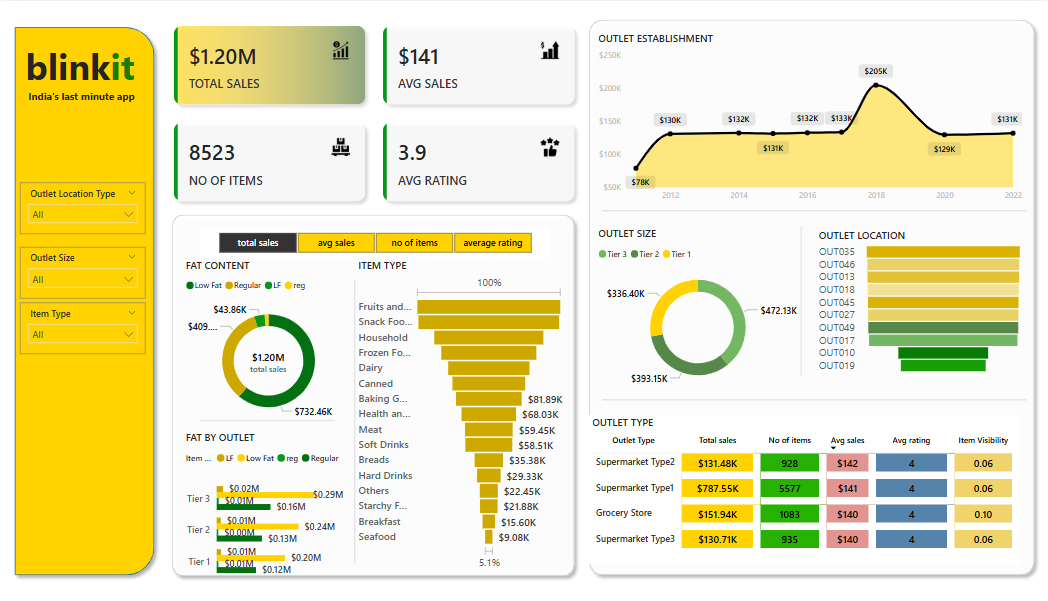

The dashboard page shown, as its layout file describes it:
{"tool":"powerbi","page":{"name":"Page 1","canvas":[1400,800],"ordinal":0},"visuals":[{"type":"shape","box":[11.4,25.7,204.3,748.6],"z":0},{"type":"textbox","box":[0,48.3,215.8,83.1],"z":1000},{"type":"textbox","box":[34.9,112.6,160.9,37.5],"z":2000},{"type":"cardVisual","fields":{"Data":["Sum(BlinkIT Grocery Data.Sales)","BlinkIT Grocery Data.avg sales","BlinkIT Grocery Data.no of items","BlinkIT Grocery Data.average rating"]},"box":[215.8,16.1,569.7,269.4],"z":3000},{"type":"shape","box":[222.9,275.7,554.3,500],"z":4000},{"type":"donutChart","title":"FAT CONTENT","fields":{"Y":["BlinkIT Grocery Data.total sales"],"Category":["BlinkIT Grocery Data.Item Fat Content"]},"box":[244.3,341.4,230,230],"z":5000},{"type":"slicer","fields":{"Values":["Metrics.Metrics"]},"box":[267.1,301.4,465.7,40],"z":6000},{"type":"cardVisual","fields":{"Data":["BlinkIT Grocery Data.total sales"]},"box":[310,447.1,98.6,62.9],"z":7000},{"type":"clusteredBarChart","title":"FAT BY OUTLET","fields":{"Y":["BlinkIT Grocery Data.total sales"],"Category":["BlinkIT Grocery Data.Outlet Location Type"],"Series":["BlinkIT Grocery Data.Item Fat Content"]},"box":[244.3,571.4,220,214.3],"z":8000},{"type":"shape","box":[267.1,548.6,180,22.9],"z":9000},{"type":"shape","box":[460,371.4,28.6,377.1],"z":10000},{"type":"funnel","title":"ITEM TYPE","fields":{"Y":["BlinkIT Grocery Data.total sales"],"Category":["BlinkIT Grocery Data.Item Type"]},"box":[474.3,341.4,284.3,420],"z":11000},{"type":"shape","box":[777.1,15.7,611.4,758.6],"z":12000},{"type":"lineChart","title":"OUTLET ESTABLISHMENT","fields":{"Y":["BlinkIT Grocery Data.total sales"],"Category":["BlinkIT Grocery Data.Outlet Establishment Year"]},"box":[794.3,40,575.7,235.7],"z":13000},{"type":"shape","box":[804.3,274.3,565.7,11.4],"z":14000},{"type":"donutChart","title":"OUTLET SIZE","fields":{"Y":["BlinkIT Grocery Data.total sales"],"Category":["BlinkIT Grocery Data.Outlet Location Type"]},"box":[794.3,300,275.7,225.7],"z":15000},{"type":"shape","box":[1025.7,300,87.1,200],"z":16000},{"type":"funnel","title":"OUTLET LOCATION","fields":{"Y":["Sum(BlinkIT Grocery Data.Sales)"],"Category":["BlinkIT Grocery Data.Outlet Identifier"]},"box":[1087.1,301.4,282.9,198.6],"z":17000},{"type":"shape","box":[804.3,525.7,565.7,11.4],"z":18000},{"type":"pivotTable","title":"OUTLET TYPE","fields":{"Values":["BlinkIT Grocery Data.total sales","BlinkIT Grocery Data.no of items","BlinkIT Grocery Data.avg sales","BlinkIT Grocery Data.average rating","Avg(BlinkIT Grocery Data.Item Visibility)"],"Rows":["BlinkIT Grocery Data.Outlet Type"]},"box":[785.7,551.4,575.7,198.6],"z":19000},{"type":"slicer","fields":{"Values":["BlinkIT Grocery Data.Outlet Location Type"]},"box":[28.6,241.4,167.1,68.6],"z":20000},{"type":"slicer","fields":{"Values":["BlinkIT Grocery Data.Outlet Size"]},"box":[28.6,327.1,167.1,68.6],"z":21000},{"type":"slicer","fields":{"Values":["BlinkIT Grocery Data.Item Type"]},"box":[28.6,401.4,167.1,68.6],"z":22000}]}

Visuals, with their boxes in screenshot pixels (x1, y1, x2, y2), scaled from the page's 1400x800 canvas onto the 1048x601 screenshot:
shape: 9,19,161,582
textbox: 0,36,162,99
textbox: 26,85,147,113
cardVisual - Sum(BlinkIT Grocery Data.Sales) x BlinkIT Grocery Data.avg sales: 162,12,588,214
shape: 167,207,582,583
"FAT CONTENT" donutChart: 183,256,355,429
slicer - Metrics.Metrics: 200,226,549,256
cardVisual - BlinkIT Grocery Data.total sales: 232,336,306,383
"FAT BY OUTLET" clusteredBarChart: 183,429,348,590
shape: 200,412,335,429
shape: 344,279,366,562
"ITEM TYPE" funnel: 355,256,568,572
shape: 582,12,1039,582
"OUTLET ESTABLISHMENT" lineChart: 595,30,1026,207
shape: 602,206,1026,215
"OUTLET SIZE" donutChart: 595,225,801,395
shape: 768,225,833,376
"OUTLET LOCATION" funnel: 814,226,1026,376
shape: 602,395,1026,403
"OUTLET TYPE" pivotTable: 588,414,1019,563
slicer - BlinkIT Grocery Data.Outlet Location Type: 21,181,146,233
slicer - BlinkIT Grocery Data.Outlet Size: 21,246,146,297
slicer - BlinkIT Grocery Data.Item Type: 21,302,146,353
